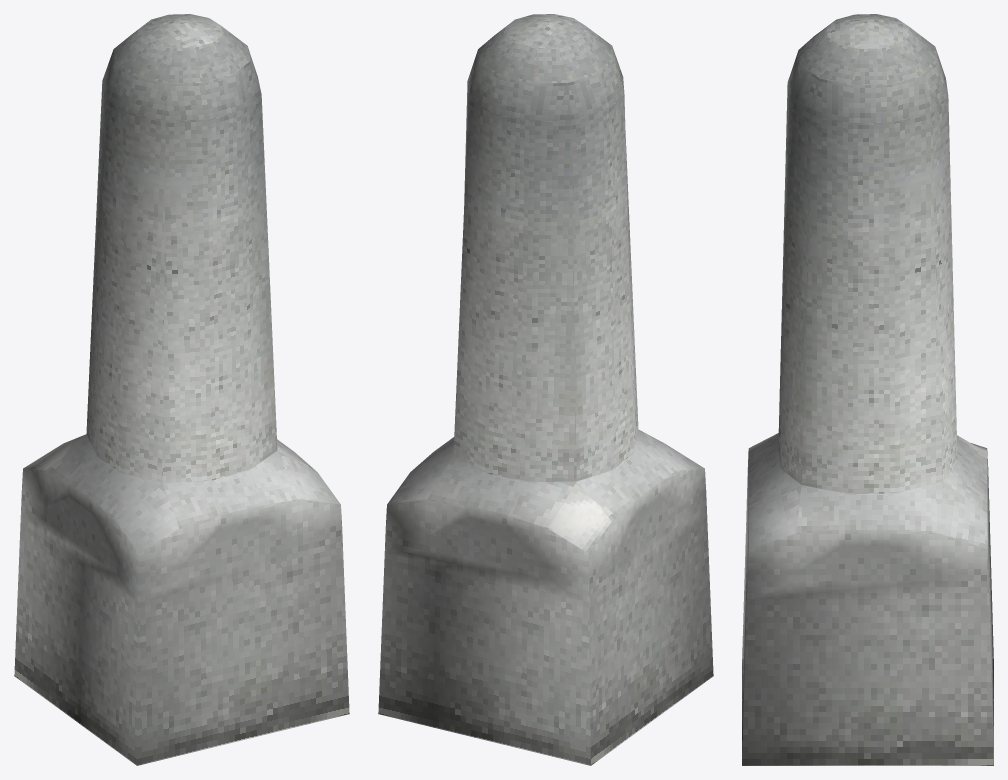
The model's file is concrete_retro_bollard_light.glb.
The picture shows the model from 3 angles, left to right: view 1: azimuth 30°, elevation 25°; view 2: azimuth 150°, elevation 25°; view 3: azimuth 270°, elevation 25°; orthographic projection. The views are drawn at different scales.
Parts seen in each view (by area): view 1: concrete_retro_bollard_light; view 2: concrete_retro_bollard_light; view 3: concrete_retro_bollard_light.
Part boxes in pixels (left/top/right/bottom): concrete_retro_bollard_light: left=14, top=14, right=349, bottom=765; concrete_retro_bollard_light: left=378, top=14, right=713, bottom=765; concrete_retro_bollard_light: left=742, top=14, right=993, bottom=765.
Size of the model in its own units: 0.4286 by 1.3 by 0.4286.
1 material, 1 textured.
